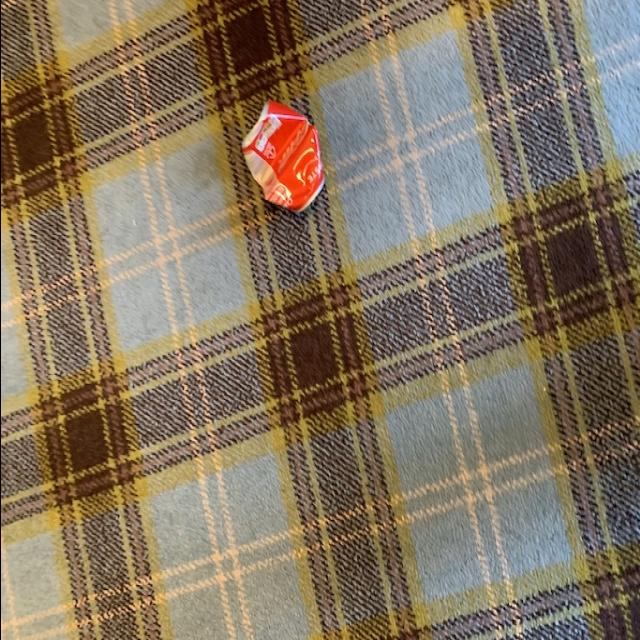Aluminum Can: (237, 92, 328, 218)
